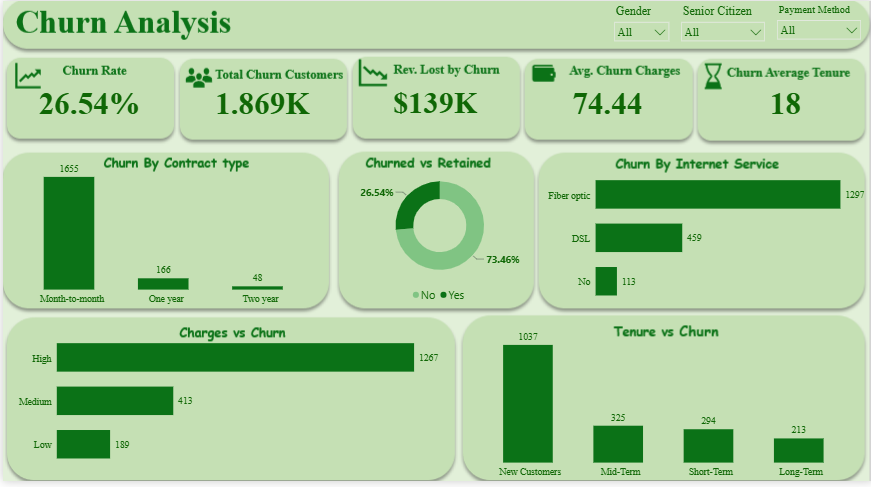

The dashboard page shown, as its layout file describes it:
{"tool":"powerbi","page":{"name":"Churn Analysis","canvas":[1450,800],"ordinal":0},"visuals":[{"type":"image","box":[-6,0,1456,800],"z":0},{"type":"cardVisual","fields":{"Data":["WA_Fn_UseC__Telco_Customer_Chur.Churn Average Tenure"]},"box":[1168,96,272,144],"z":1000},{"type":"cardVisual","fields":{"Data":["WA_Fn_UseC__Telco_Customer_Chur.Churn Rate"]},"box":[0,96,288,144],"z":2000},{"type":"cardVisual","fields":{"Data":["Sum(WA_Fn_UseC__Telco_Customer_Chur.Revenue Lost)"]},"box":[576,96,288,144],"z":3000},{"type":"cardVisual","fields":{"Data":["WA_Fn_UseC__Telco_Customer_Chur.Average churn monthly charges"]},"box":[864,96,288,144],"z":4000},{"type":"cardVisual","fields":{"Data":["WA_Fn_UseC__Telco_Customer_Chur.Total Churn Customers"]},"box":[288,96,288,144],"z":5000},{"type":"donutChart","fields":{"Y":["CountNonNull(WA_Fn_UseC__Telco_Customer_Chur.Customer Id)"],"Category":["WA_Fn_UseC__Telco_Customer_Chur.Churn"]},"box":[560,272,336,240],"z":6000},{"type":"clusteredBarChart","fields":{"Category":["WA_Fn_UseC__Telco_Customer_Chur.Monthly Charges Group"],"Y":["CountNonNull(WA_Fn_UseC__Telco_Customer_Chur.Gender)"],"Series":["WA_Fn_UseC__Telco_Customer_Chur.Churn"]},"box":[16,528,736,272],"z":7000},{"type":"barChart","fields":{"Y":["CountNonNull(WA_Fn_UseC__Telco_Customer_Chur.Customer Id)"],"Category":["WA_Fn_UseC__Telco_Customer_Chur.Internet Service"],"Series":["WA_Fn_UseC__Telco_Customer_Chur.Churn"]},"box":[896,256,544,272],"z":8000},{"type":"columnChart","fields":{"Category":["WA_Fn_UseC__Telco_Customer_Chur.Contract"],"Series":["WA_Fn_UseC__Telco_Customer_Chur.Churn"],"Y":["CountNonNull(WA_Fn_UseC__Telco_Customer_Chur.Customer Id)"]},"box":[0,240,544,272],"z":9000},{"type":"columnChart","fields":{"Category":["WA_Fn_UseC__Telco_Customer_Chur.Tenure Group"],"Y":["CountNonNull(WA_Fn_UseC__Telco_Customer_Chur.Customer Id)"],"Series":["WA_Fn_UseC__Telco_Customer_Chur.Churn"]},"box":[768,528,672,272],"z":10000},{"type":"slicer","fields":{"Values":["WA_Fn_UseC__Telco_Customer_Chur.Gender"]},"box":[1008,0,112,80],"z":11000},{"type":"slicer","fields":{"Values":["WA_Fn_UseC__Telco_Customer_Chur.Payment Method"]},"box":[1280,0,160,80],"z":12000},{"type":"slicer","fields":{"Values":["WA_Fn_UseC__Telco_Customer_Chur.Senior Citizen"]},"box":[1120,0,160,80],"z":13000}]}

Visuals, with their boxes in screenshot pixels (x1, y1, x2, y2), scaled from the page's 1450x800 canvas onto the 871x487 screenshot:
image: region(0, 0, 870, 486)
cardVisual - WA_Fn_UseC__Telco_Customer_Chur.Churn Average Tenure: region(702, 58, 865, 146)
cardVisual - WA_Fn_UseC__Telco_Customer_Chur.Churn Rate: region(0, 58, 173, 146)
cardVisual - Sum(WA_Fn_UseC__Telco_Customer_Chur.Revenue Lost): region(346, 58, 519, 146)
cardVisual - WA_Fn_UseC__Telco_Customer_Chur.Average churn monthly charges: region(519, 58, 692, 146)
cardVisual - WA_Fn_UseC__Telco_Customer_Chur.Total Churn Customers: region(173, 58, 346, 146)
donutChart - CountNonNull(WA_Fn_UseC__Telco_Customer_Chur.Customer Id) x WA_Fn_UseC__Telco_Customer_Chur.Churn: region(336, 166, 538, 312)
clusteredBarChart - WA_Fn_UseC__Telco_Customer_Chur.Monthly Charges Group x CountNonNull(WA_Fn_UseC__Telco_Customer_Chur.Gender): region(10, 321, 452, 486)
barChart - CountNonNull(WA_Fn_UseC__Telco_Customer_Chur.Customer Id) x WA_Fn_UseC__Telco_Customer_Chur.Internet Service: region(538, 156, 865, 321)
columnChart - WA_Fn_UseC__Telco_Customer_Chur.Contract x WA_Fn_UseC__Telco_Customer_Chur.Churn: region(0, 146, 327, 312)
columnChart - WA_Fn_UseC__Telco_Customer_Chur.Tenure Group x CountNonNull(WA_Fn_UseC__Telco_Customer_Chur.Customer Id): region(461, 321, 865, 486)
slicer - WA_Fn_UseC__Telco_Customer_Chur.Gender: region(605, 0, 673, 49)
slicer - WA_Fn_UseC__Telco_Customer_Chur.Payment Method: region(769, 0, 865, 49)
slicer - WA_Fn_UseC__Telco_Customer_Chur.Senior Citizen: region(673, 0, 769, 49)
